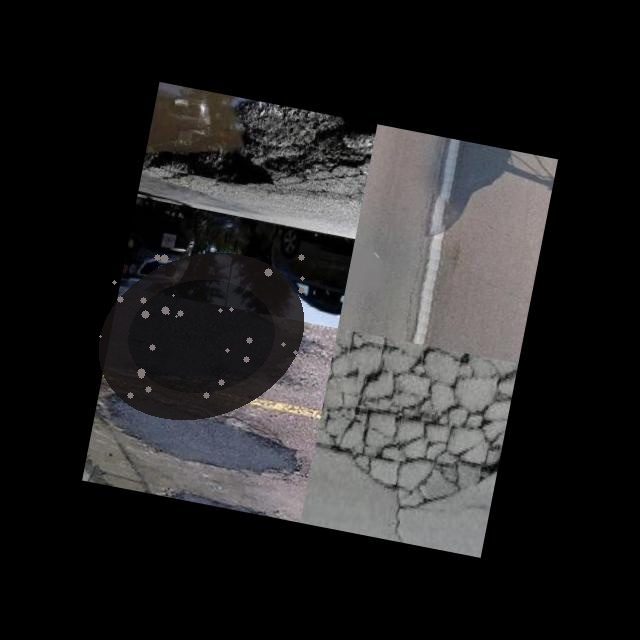pothole: (91, 251, 311, 421)
